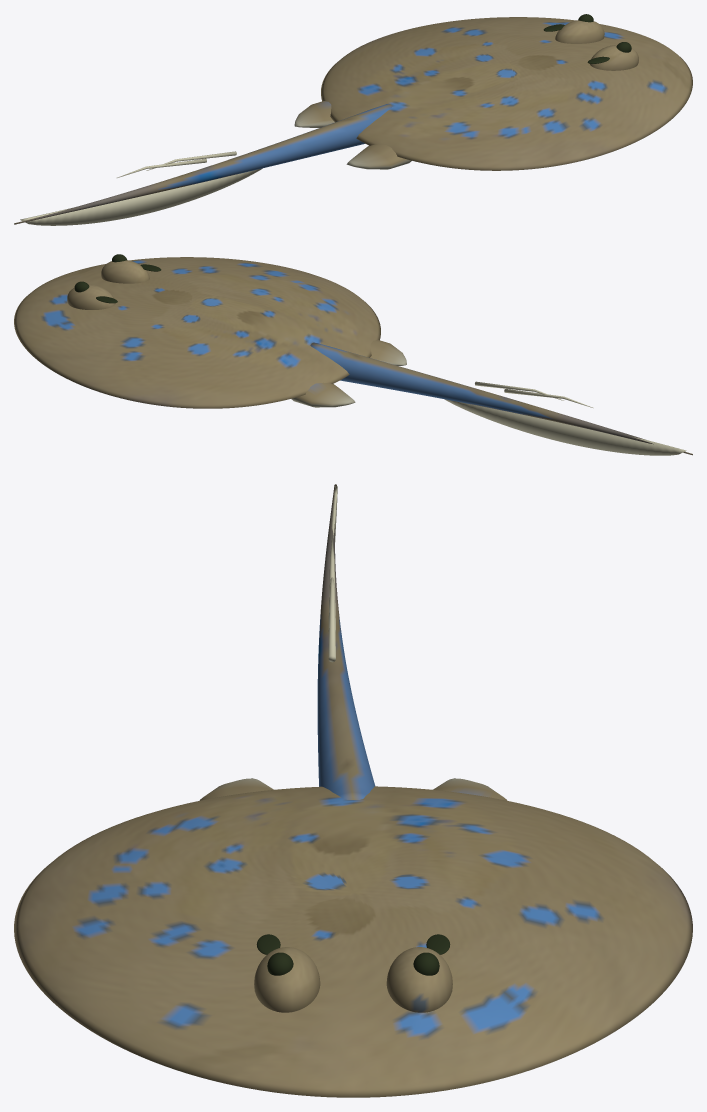
File: bluespotted_ray_hybrid.glb
3 views of the same model, one above another, from view 1: azimuth 30°, elevation 25°; view 2: azimuth 150°, elevation 25°; view 3: azimuth 270°, elevation 25° (orthographic). The views are drawn at different scales.
Parts seen in each view (by area): view 1: RayDisc, RayTail, VentralTailFold, PelvicFin.001, EyeMound, EyeMound.001, PelvicFin; view 2: RayDisc, RayTail, VentralTailFold, PelvicFin, EyeMound.001, EyeMound, PelvicFin.001; view 3: RayDisc, RayTail, EyeMound, EyeMound.001.
Part boxes in pixels (box(x1,y1,x2,y2)): RayDisc: box(321, 17, 692, 170); RayTail: box(14, 104, 392, 224); VentralTailFold: box(20, 168, 262, 225); PelvicFin.001: box(346, 144, 411, 169); EyeMound: box(555, 20, 604, 43); EyeMound.001: box(590, 44, 638, 70); PelvicFin: box(294, 101, 334, 127); RayDisc: box(14, 257, 380, 408); RayTail: box(310, 342, 692, 455); VentralTailFold: box(445, 399, 686, 455); PelvicFin: box(291, 382, 355, 407); EyeMound.001: box(101, 260, 149, 283); EyeMound: box(67, 284, 115, 309); PelvicFin.001: box(370, 340, 406, 365); RayDisc: box(14, 786, 692, 1097); RayTail: box(317, 484, 375, 799); EyeMound: box(386, 947, 452, 1012); EyeMound.001: box(254, 947, 320, 1012).
Size of the model in its own units: 1.12 by 0.108 by 0.5125.
